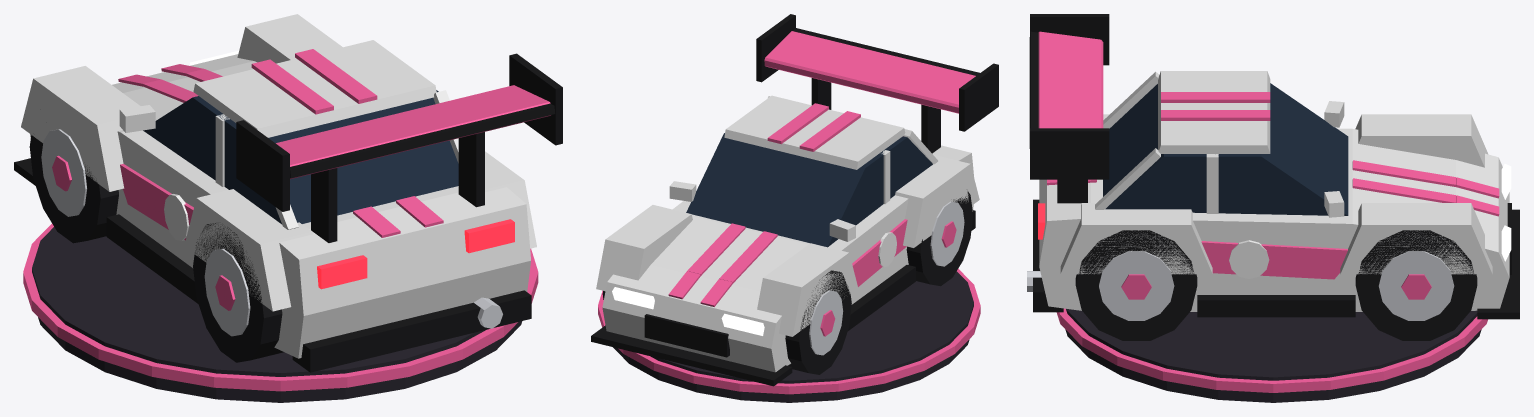
The model's file is bishop.glb.
3 views of the same model, side by side, from view 1: azimuth 30°, elevation 25°; view 2: azimuth 150°, elevation 25°; view 3: azimuth 270°, elevation 25° (orthographic). The views are drawn at different scales.
Visible parts, largest first — view 1: bishop, wheel_rl, wheel_fl; view 2: bishop, wheel_fl, wheel_rl; view 3: bishop, wheel_fr, wheel_rr.
Part boxes in pixels (x1,y1,x2,y2): bishop: (14, 14, 562, 402); wheel_rl: (193, 223, 283, 362); wheel_fl: (29, 129, 118, 243); bishop: (591, 14, 998, 402); wheel_fl: (785, 270, 851, 374); wheel_rl: (906, 191, 973, 286); bishop: (1027, 14, 1519, 402); wheel_fr: (1355, 230, 1477, 340); wheel_rr: (1075, 230, 1197, 340).
Bounding box in the file's own units: 0.704 × 0.4225 × 0.7857.
